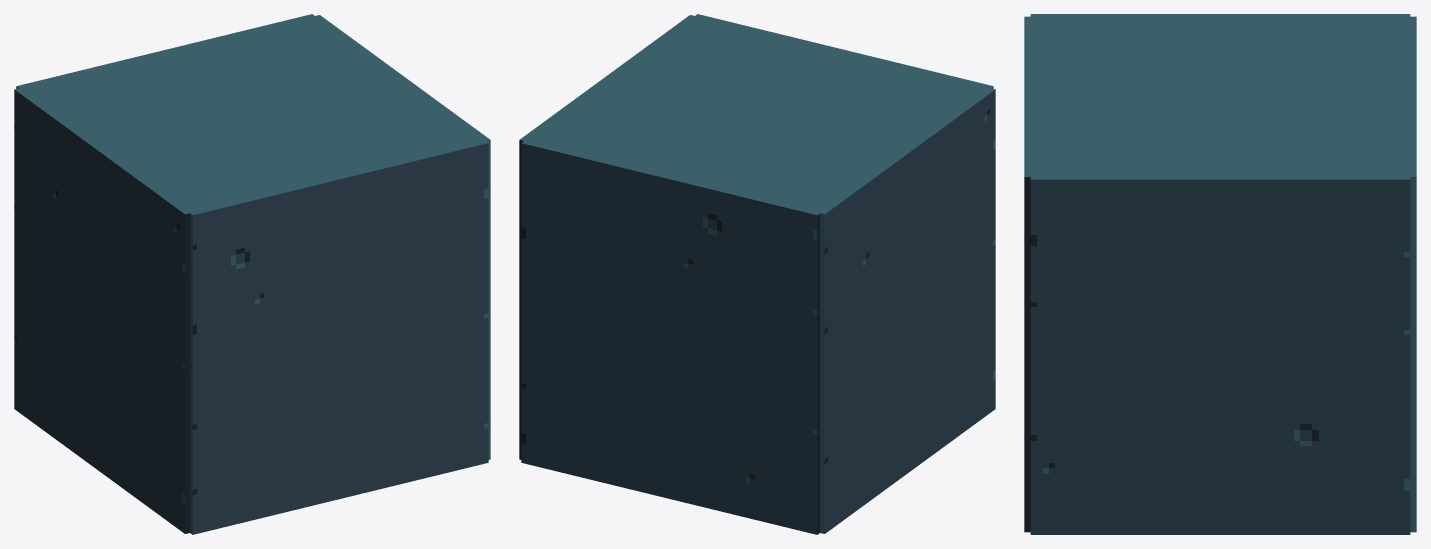
The model's file is mine_city_door_tubeao.fezao.glb.
3 views of the same model, side by side, from view 1: azimuth 30°, elevation 25°; view 2: azimuth 150°, elevation 25°; view 3: azimuth 270°, elevation 25° (orthographic). The views are drawn at different scales.
Parts seen in each view (by area): view 1: MINE_CITY_DOOR_TUBEAO; view 2: MINE_CITY_DOOR_TUBEAO; view 3: MINE_CITY_DOOR_TUBEAO.
Part boxes in pixels (x1,y1,x2,y2): MINE_CITY_DOOR_TUBEAO: [14, 14, 490, 534]; MINE_CITY_DOOR_TUBEAO: [519, 14, 995, 534]; MINE_CITY_DOOR_TUBEAO: [1024, 14, 1416, 534].
Bounding box in the file's own units: 4 × 4 × 4.
1 material, 1 textured.
